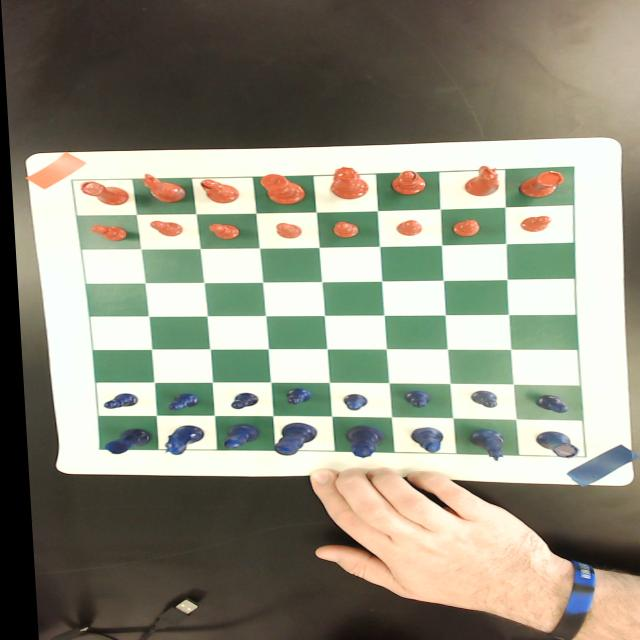B: (215, 425, 254, 449), (403, 428, 439, 452)
K: (265, 422, 312, 456)
N: (462, 430, 503, 462), (155, 426, 198, 456)
P: (528, 394, 564, 414), (159, 393, 196, 411), (96, 392, 135, 409), (396, 390, 427, 409), (335, 394, 363, 412), (464, 391, 493, 408), (224, 393, 253, 410), (280, 388, 306, 406)
Q: (338, 426, 378, 458)
R: (96, 428, 148, 454), (527, 431, 573, 458)
b: (386, 170, 425, 196), (196, 180, 236, 204)
k: (256, 174, 303, 204)
n: (134, 172, 186, 204), (459, 166, 498, 196)
p: (85, 225, 124, 241), (145, 221, 180, 237), (448, 219, 479, 237), (515, 216, 549, 232), (204, 224, 236, 240), (271, 222, 298, 240), (328, 222, 357, 238), (391, 220, 418, 236)
q: (326, 167, 366, 199)
r: (75, 180, 127, 206), (515, 170, 562, 198)
